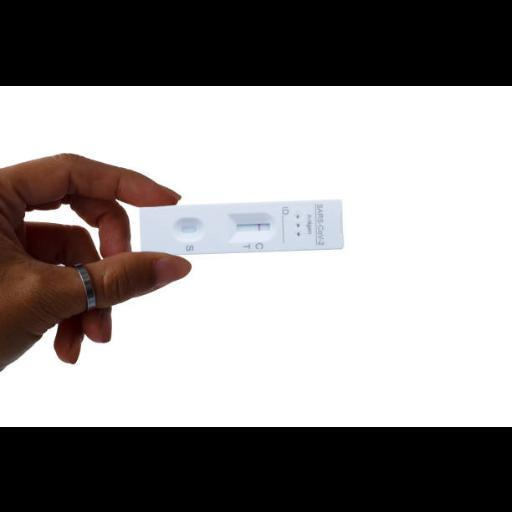Neg: (138, 198, 344, 250)
